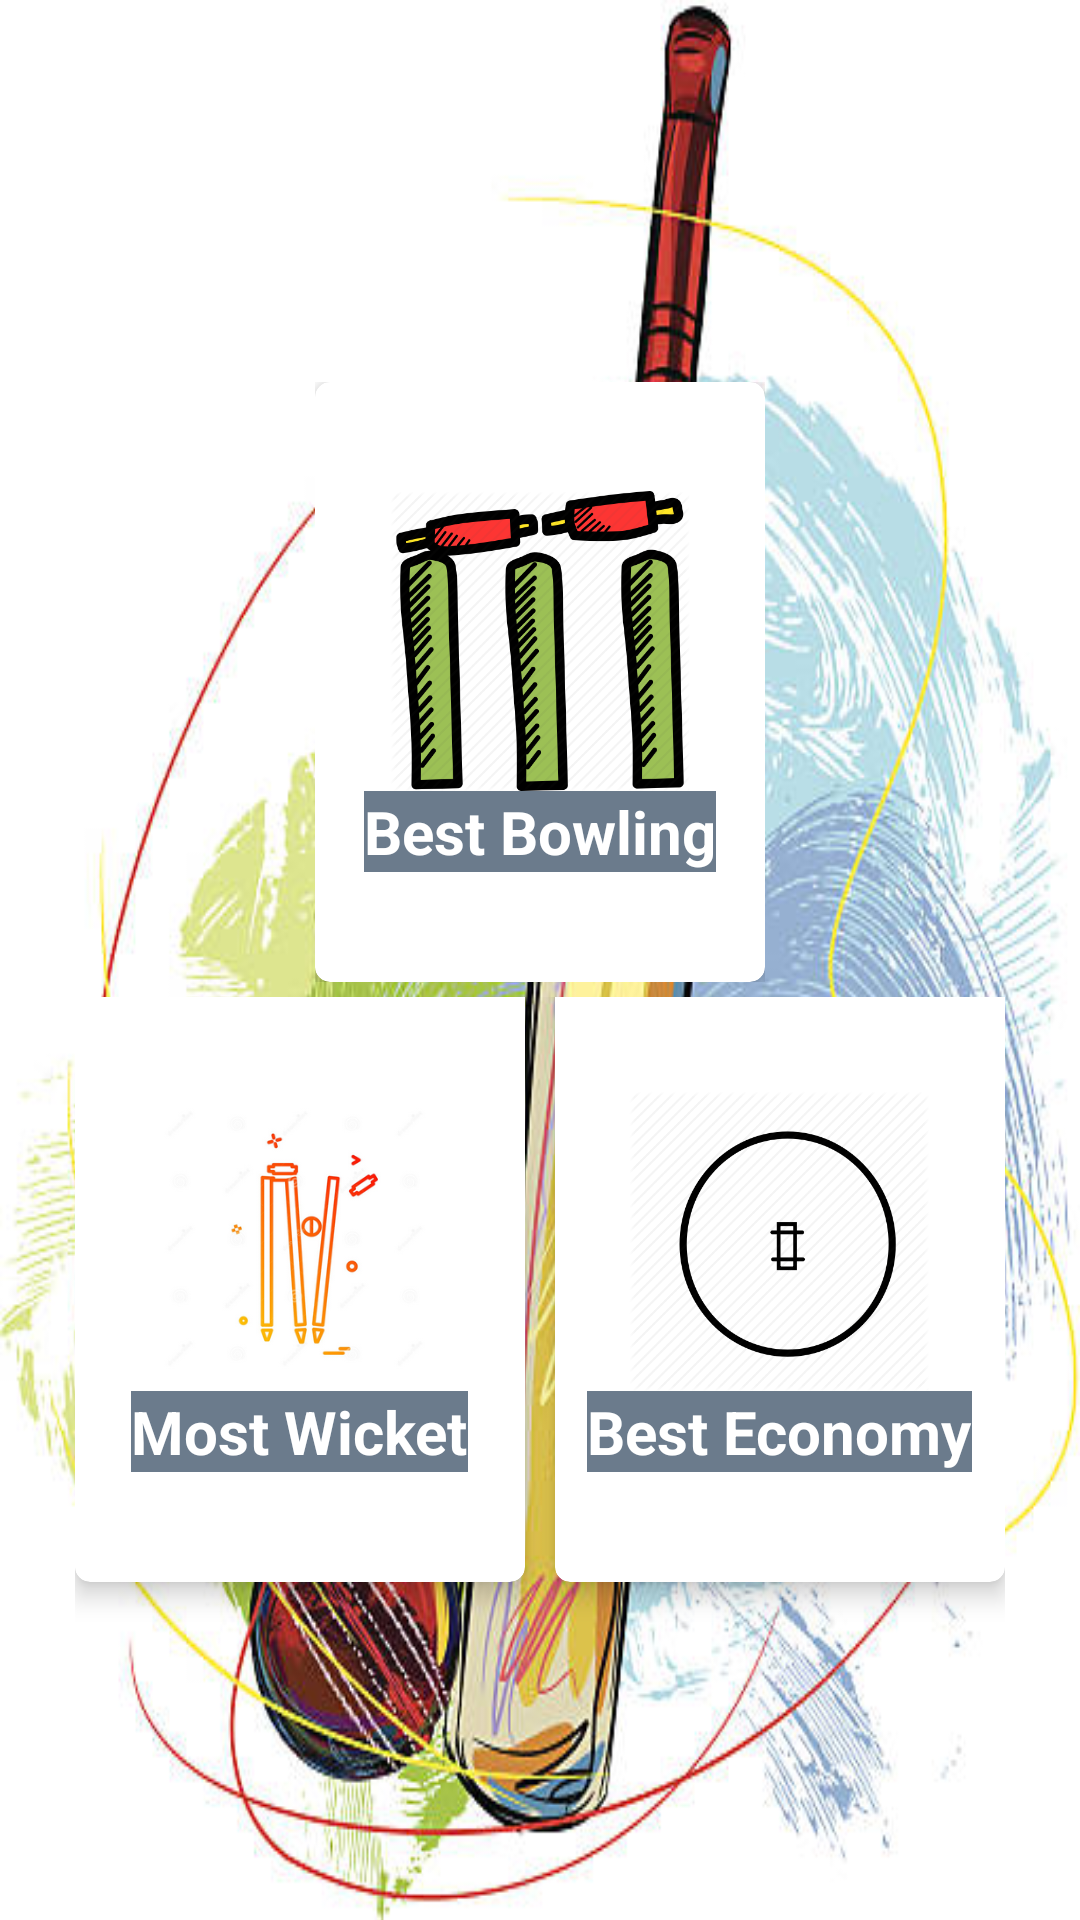

Where icons sit on this 1080*1920 app screen, as {"x1": x1, "y1": y1, "x2": x2, "y2": y2}:
wicketicon: {"x1": 396, "y1": 491, "x2": 684, "y2": 790}
